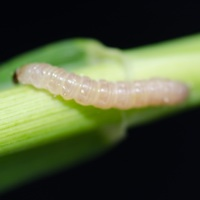insect: (13, 63, 187, 108)
